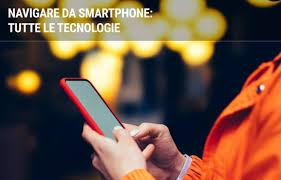Hand: (80, 122, 149, 178), (124, 117, 175, 168)
Smartphone: (62, 78, 139, 168)
